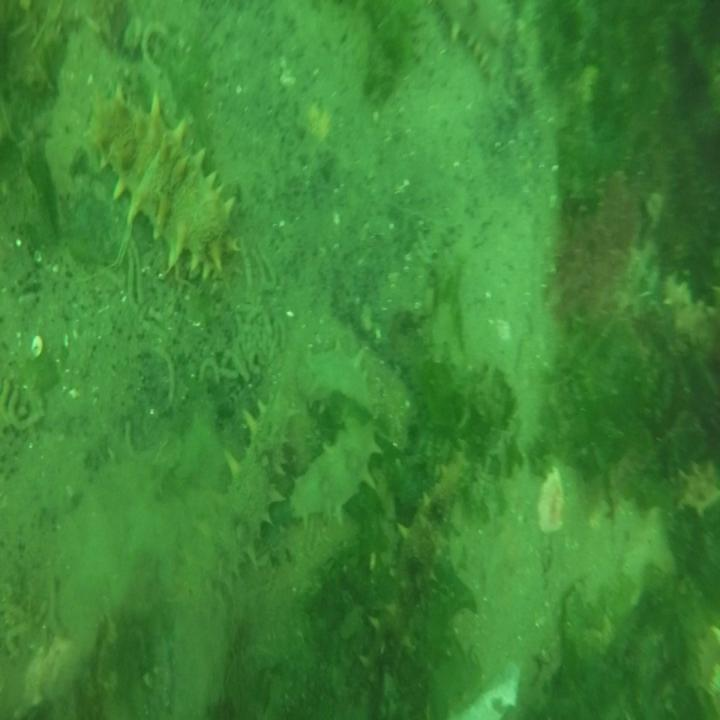holothurian: (87, 77, 244, 290), (174, 385, 298, 634), (359, 457, 479, 677), (290, 417, 382, 534), (299, 338, 393, 424), (434, 0, 500, 82)
